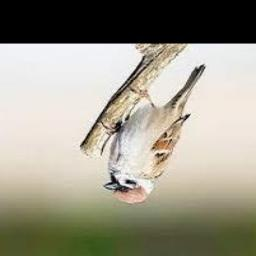Sparrow: (104, 65, 205, 205)
